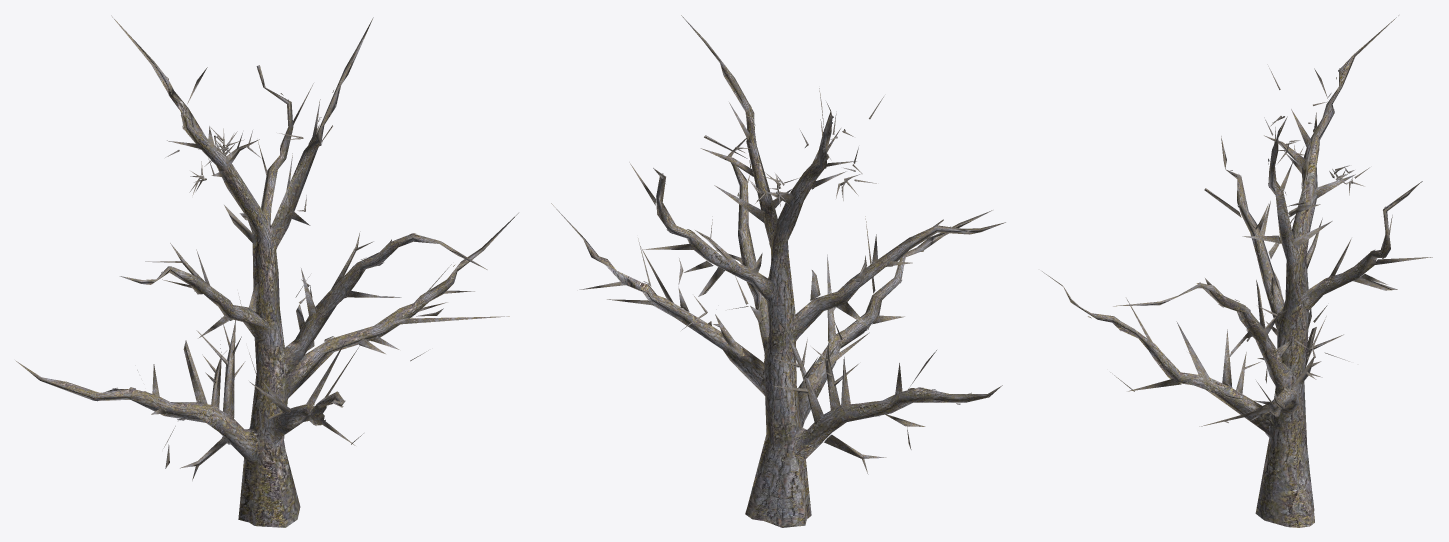
The model's file is tree-realistic-extra-pack.glb.
The picture shows the model from 3 angles, left to right: view 1: azimuth 30°, elevation 25°; view 2: azimuth 150°, elevation 25°; view 3: azimuth 270°, elevation 25°; orthographic projection. The views are drawn at different scales.
Parts seen in each view (by area): view 1: Tree_0; view 2: Tree_0; view 3: Tree_0.
Boxes of the visible parts, x1=… form: Tree_0: x1=15, y1=15, x2=518, y2=527; Tree_0: x1=551, y1=15, x2=1005, y2=527; Tree_0: x1=1042, y1=15, x2=1432, y2=527.
Bounding box in the file's own units: 6.61 × 6.37 × 5.04.
1 material, 1 textured.
